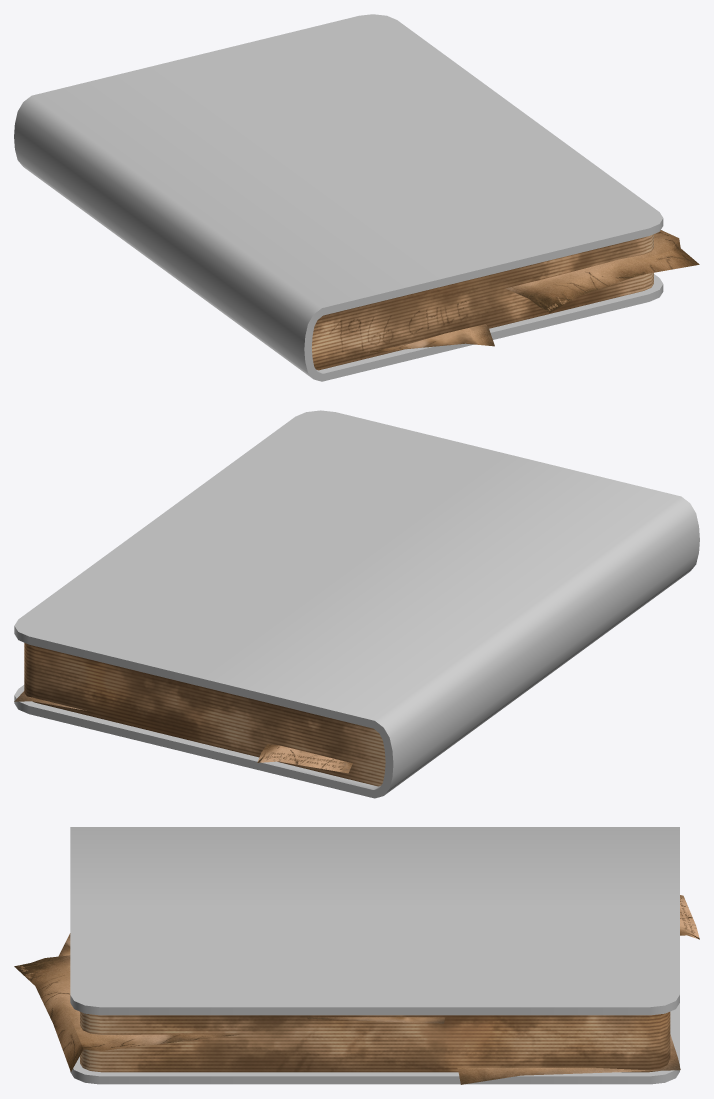
The model's file is OldAlbum.fbx.
The picture shows the model from 3 angles, top to bottom: view 1: azimuth 30°, elevation 25°; view 2: azimuth 150°, elevation 25°; view 3: azimuth 270°, elevation 25°; orthographic projection. The views are drawn at different scales.
Parts seen in each view (by area): view 1: Cover, Paper; view 2: Cover, Paper; view 3: Cover, Paper.
Part boxes in pixels (<box>): Cover: <box>14,14,663,381</box>; Paper: <box>311,230,699,370</box>; Cover: <box>14,410,699,798</box>; Paper: <box>14,643,385,786</box>; Cover: <box>70,827,679,1084</box>; Paper: <box>14,895,699,1084</box>.
Size of the model in its own units: 113 by 20 by 161.
